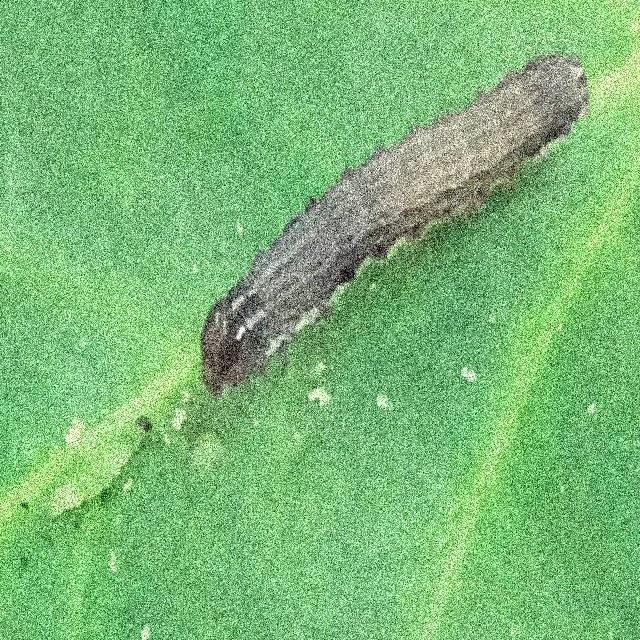Plaga: (206, 59, 593, 391)
